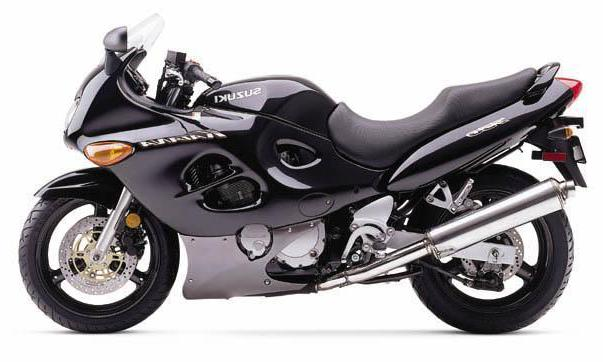motorcycle: (8, 1, 594, 350)
